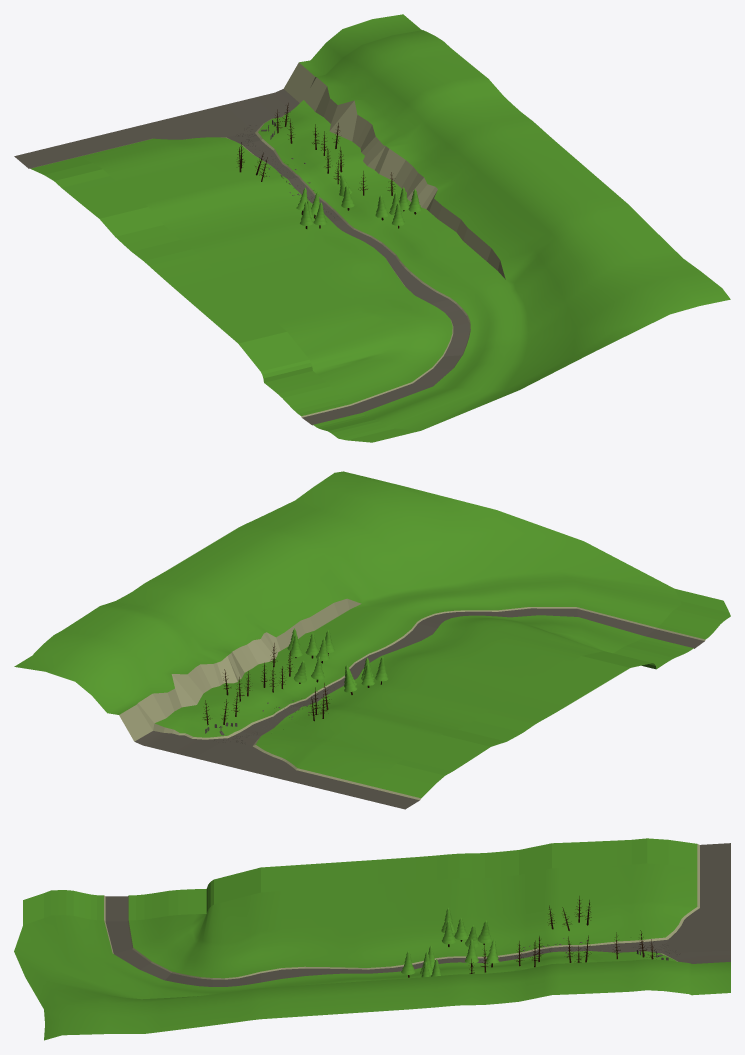
The picture shows the model from 3 angles, top to bottom: view 1: azimuth 30°, elevation 25°; view 2: azimuth 150°, elevation 25°; view 3: azimuth 270°, elevation 25°; orthographic projection. The views are drawn at different scales.
Visible parts, largest first — view 1: Scene; view 2: Scene; view 3: Scene.
Part boxes in pixels (bbox=[...]): Scene: bbox=[14, 14, 730, 442]; Scene: bbox=[14, 471, 730, 809]; Scene: bbox=[14, 838, 730, 1040].
Bounding box in the file's own units: 9400 × 2380 × 14303.
